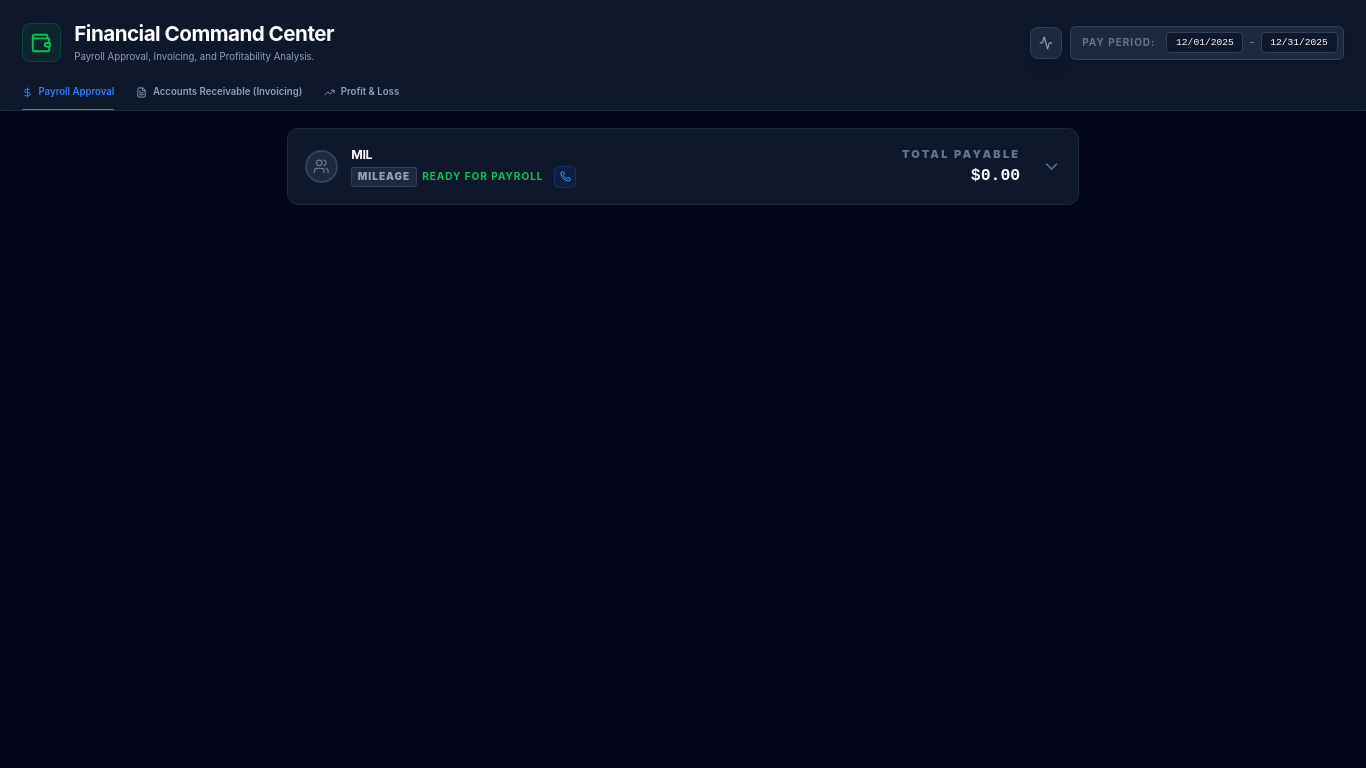
Test case: Settlements deep coverage › pay model calculations › mileage pay model
Click the heading "Mil" at (362,154), box x1=351 y1=147 x2=372 y2=162
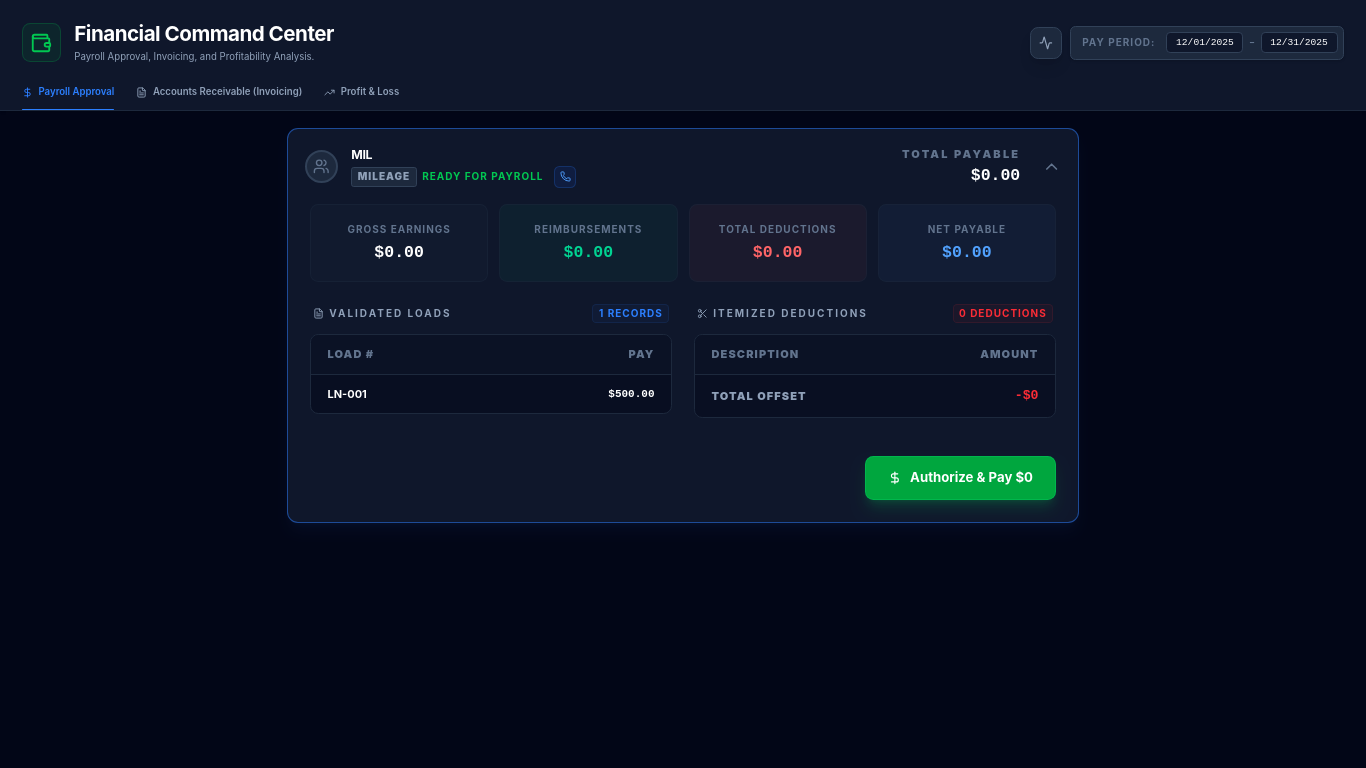
Check: the text "Gross Earnings" is shown, box x1=347 y1=222 x2=451 y2=237
